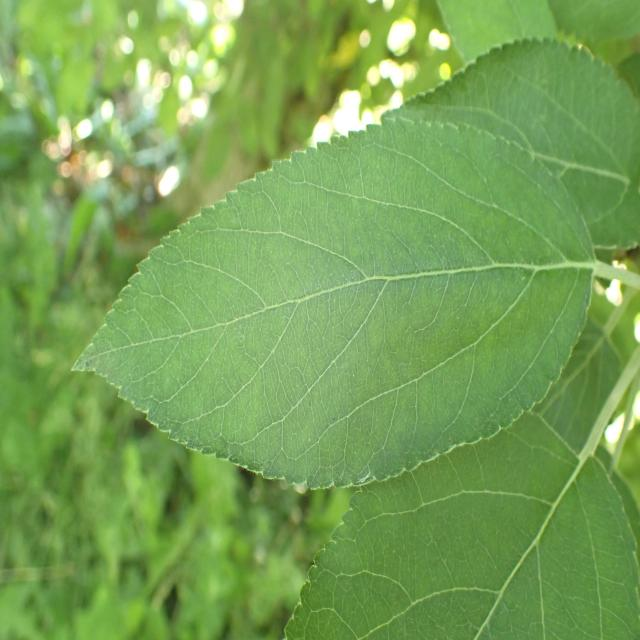healthy: (70, 111, 595, 491), (282, 410, 640, 640), (381, 36, 640, 252)
